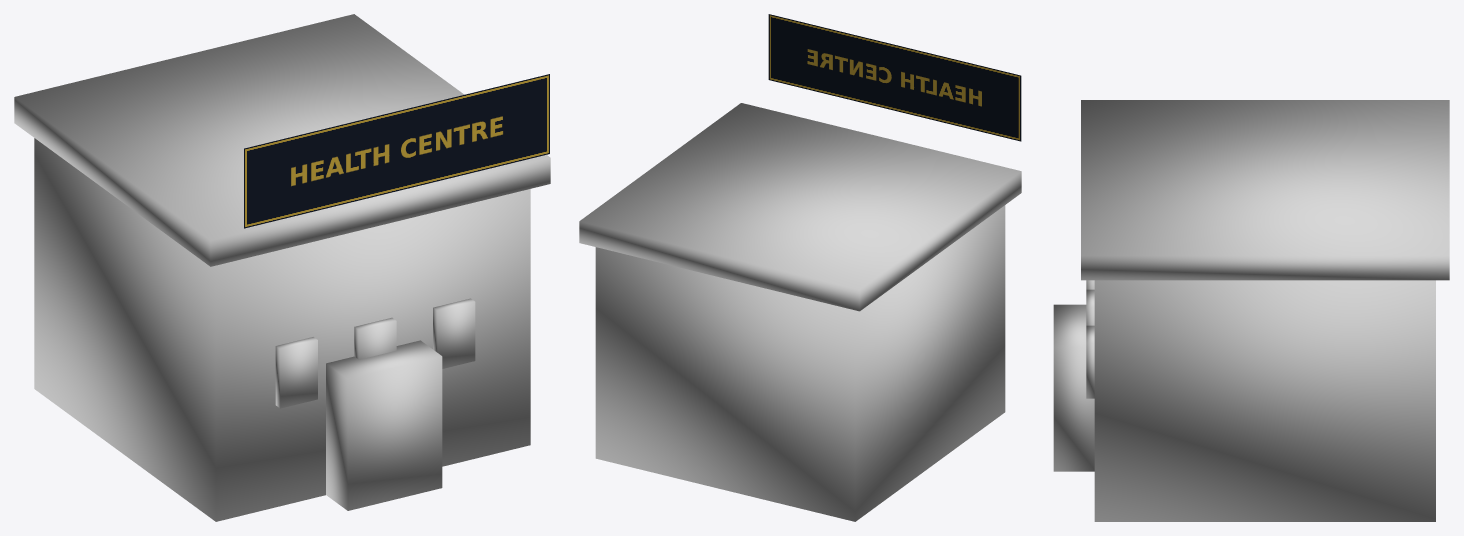
File: health-center.glb
3 renders of one model, left to right at view 1: azimuth 30°, elevation 25°; view 2: azimuth 150°, elevation 25°; view 3: azimuth 270°, elevation 25°, orthographic. The views are drawn at different scales.
Parts seen in each view (by area): view 1: Model, Sign; view 2: Model, Sign; view 3: Model.
Boxes of the visible parts, left/top/right/bottom form: Model: left=14, top=14, right=550, bottom=521; Sign: left=244, top=74, right=549, bottom=228; Model: left=579, top=103, right=1021, bottom=521; Sign: left=768, top=14, right=1021, bottom=141; Model: left=1053, top=100, right=1449, bottom=521.
Bounding box in the file's own units: 5.4 × 5.91 × 5.85.
Materials: 1 (1 with a texture image).
